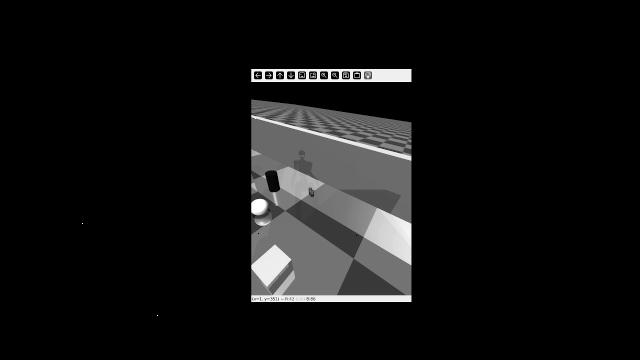cilindro: (265, 169, 281, 194)
cuadrado: (251, 243, 299, 295)
esfera: (248, 194, 269, 218), (310, 193, 318, 198), (308, 186, 314, 191)
